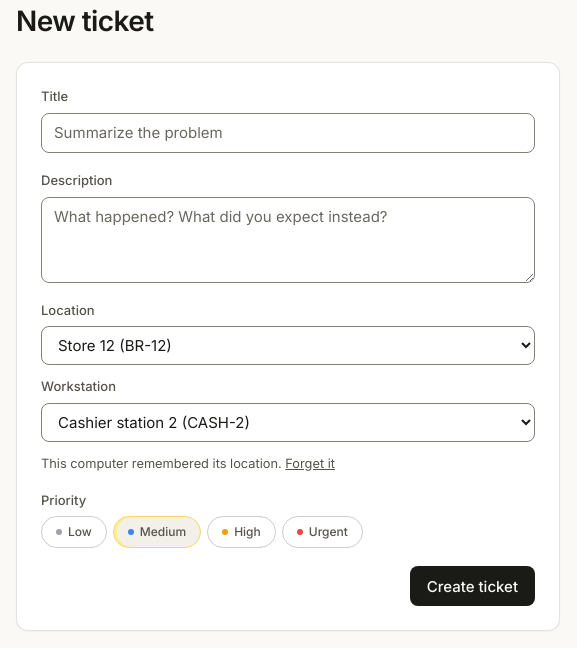
Test: NewTicketPage location context › prefills the remembered place and can forget it
expect the dropdown labelled "Location" shows "Store 12 (BR-12)": met, box [41,326,535,365]
expect the text "This computer remembered its location. Forget it" is shown: met, box [41,454,335,473]
Click the button "Forget it" at x=310, y=463, box [285,454,335,473]
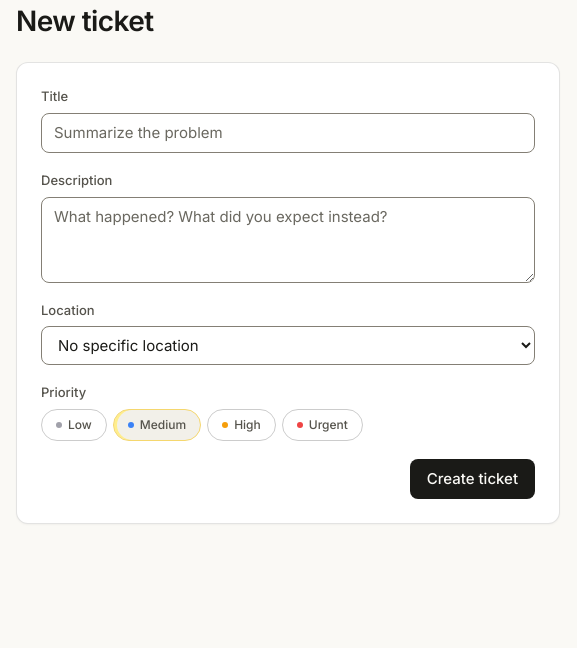
expect the dropdown labelled "Location" shows "No specific location": met, box [41,326,535,365]
